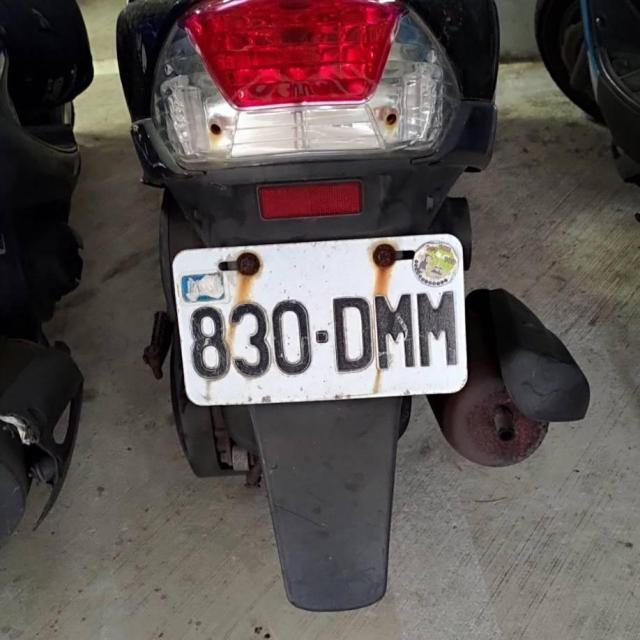W: (169, 234, 473, 407)
